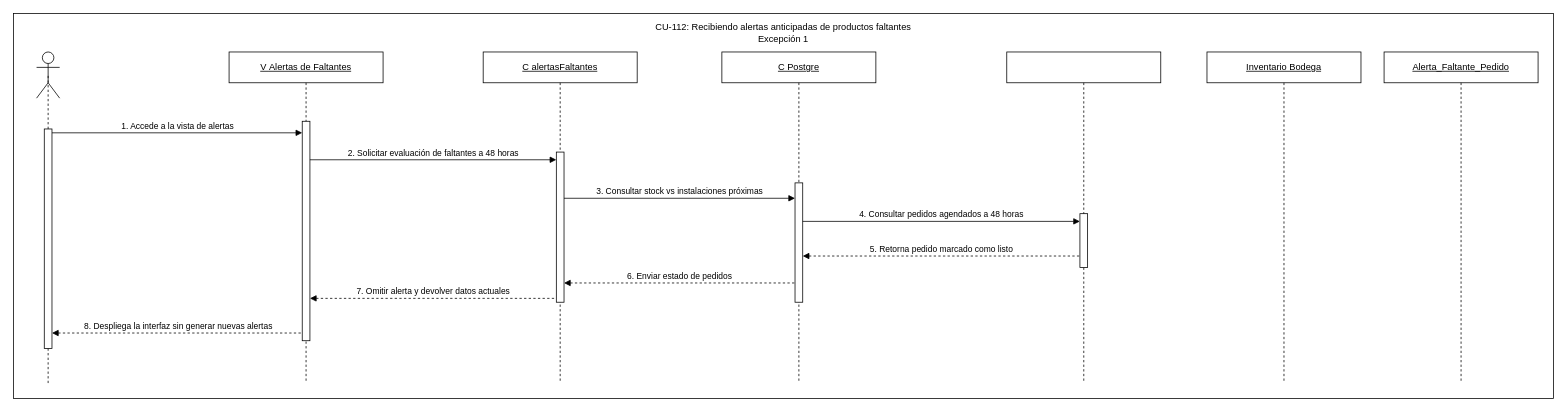
Image size: 1567x412. Some labels were removed from this diagram. The centre of each missing label's shape, as x and y in pixels:
JOP: point 48,74
Orden Trabajo: point 1083,216
